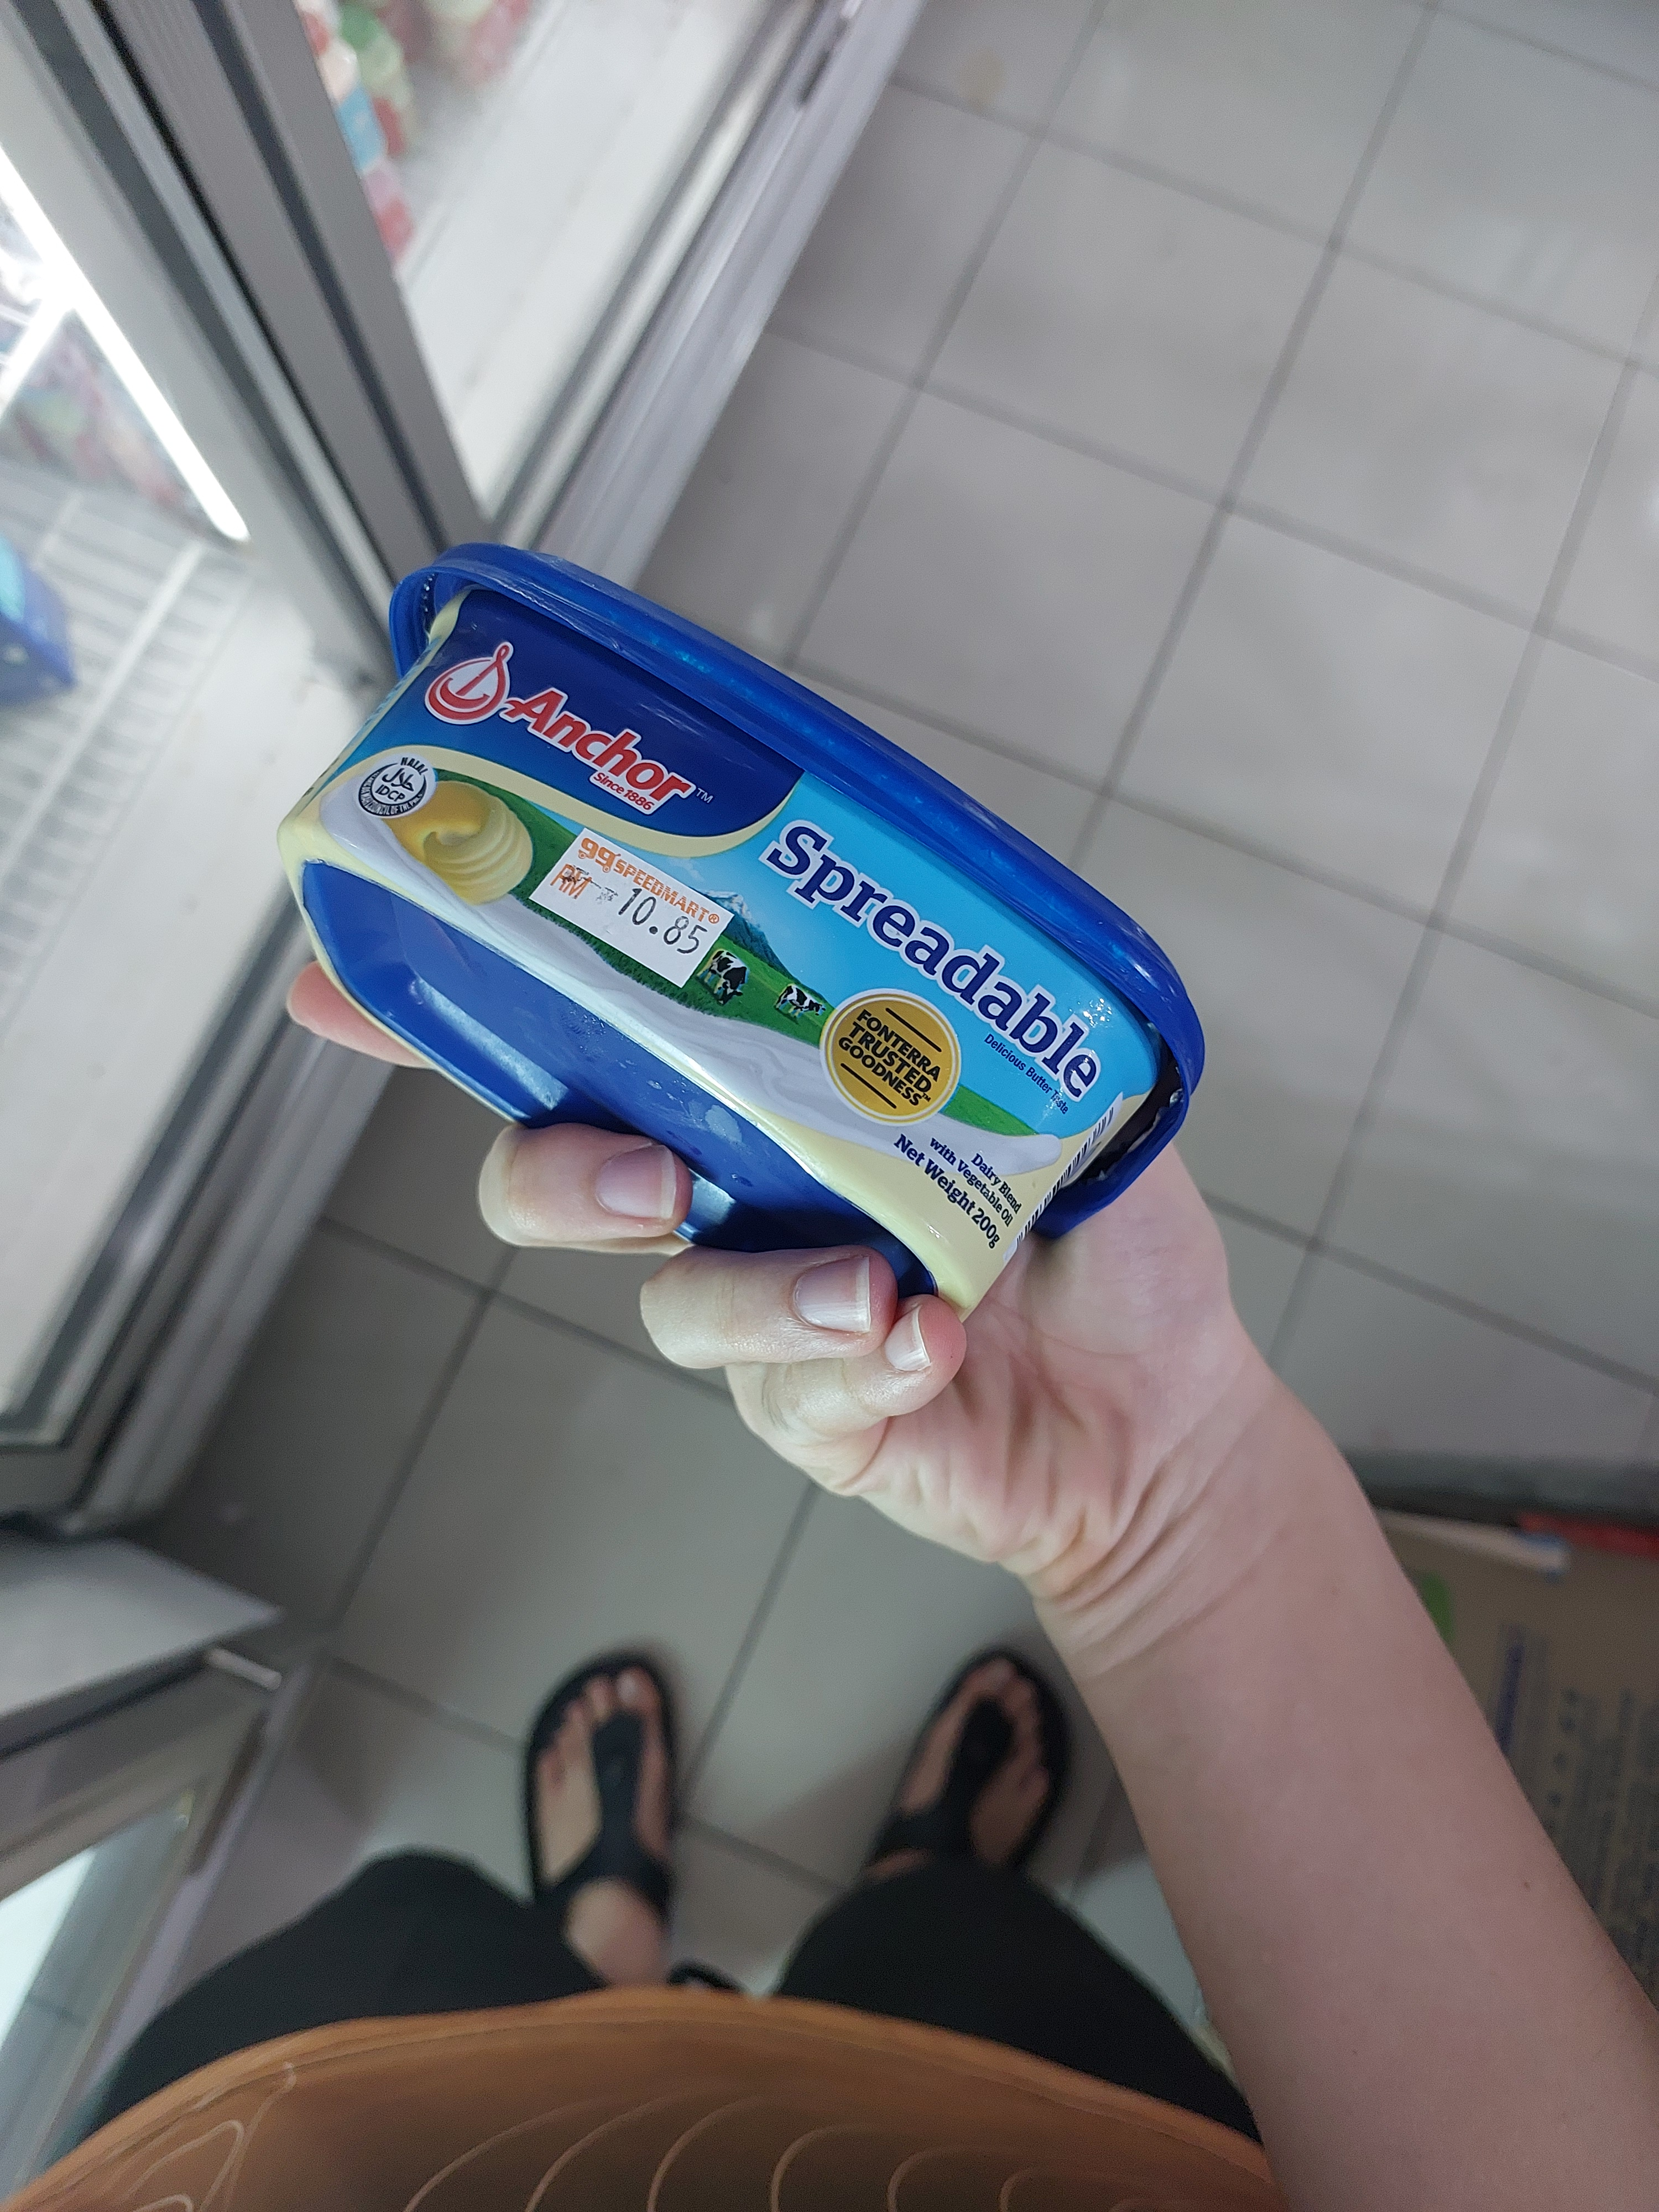butter: (272, 542, 1215, 1327)
